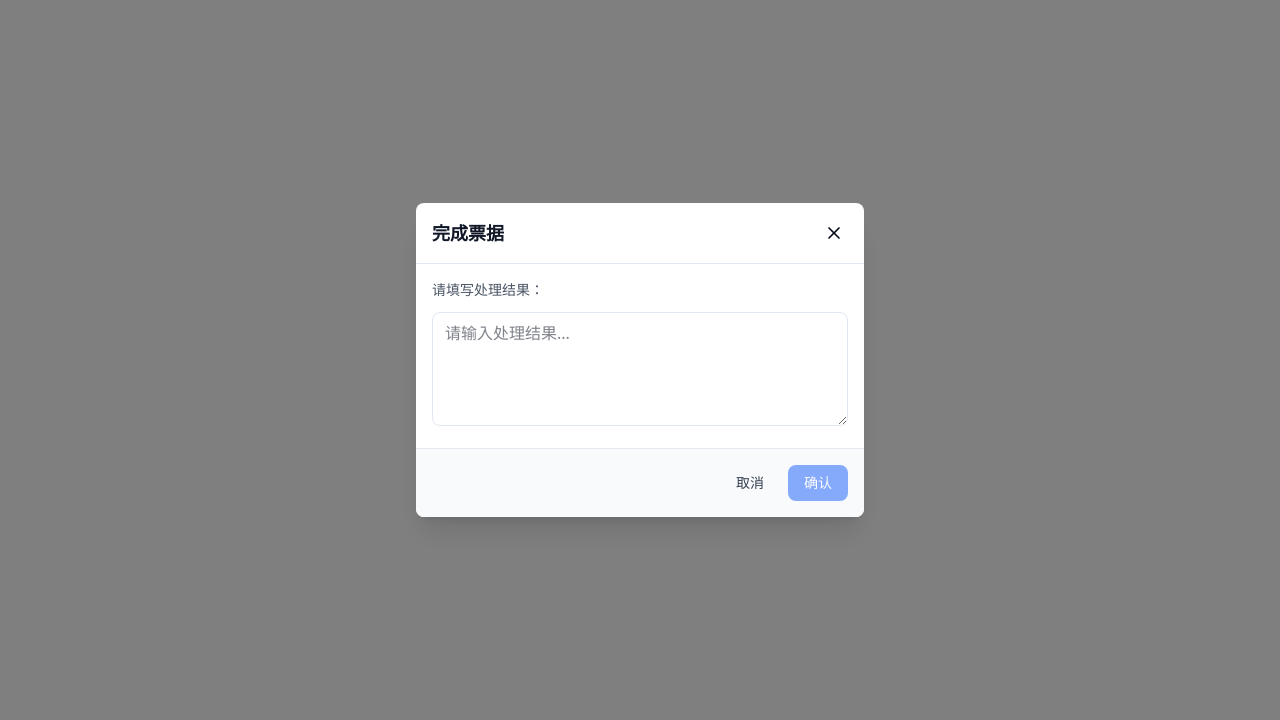
Test: StatusTransitionDialog › requires resolution for completed status
Expected: the button "确认" is disabled, [788,465,848,501]
Type "已修复" into the text box with placeholder "请输入处理结果..." at {"x": 640, "y": 369}, box [432,312,848,426]
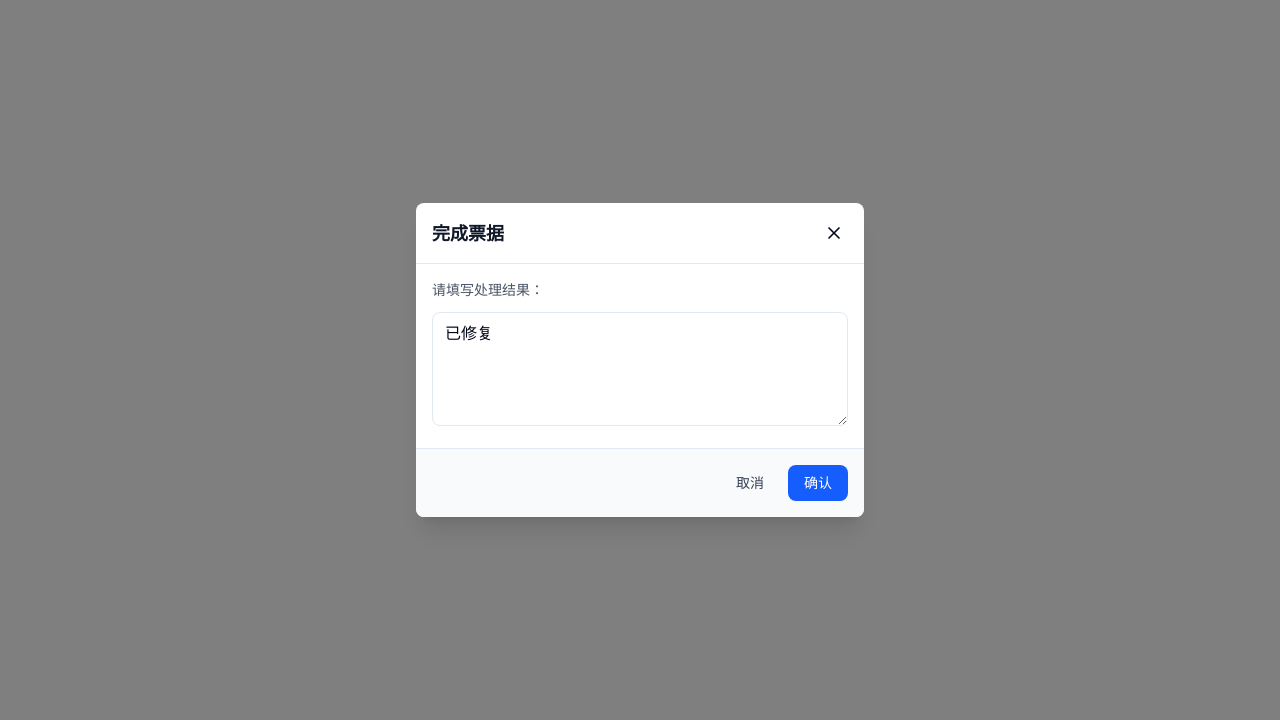
Now the button "确认" is enabled, box [788,465,848,501]
